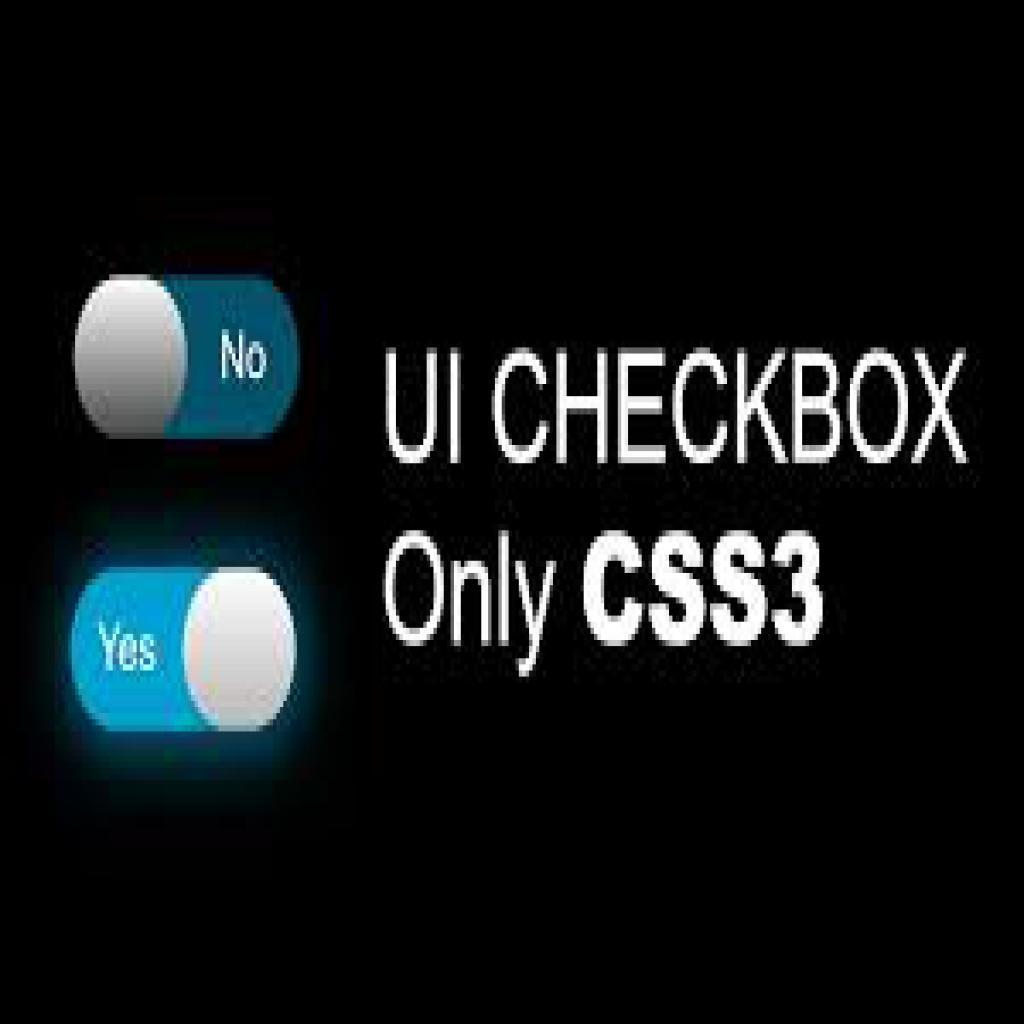switch: (76, 564, 298, 735), (78, 280, 300, 438)
